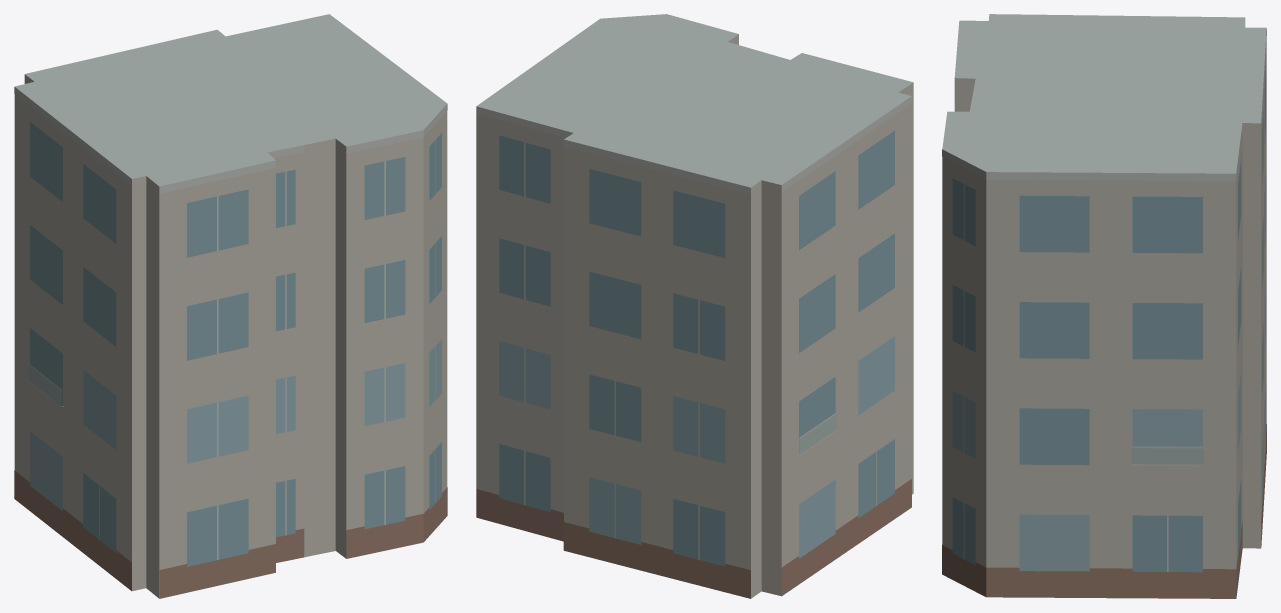
The model's file is survey-upis-32652744.glb.
3 renders of one model, left to right at view 1: azimuth 30°, elevation 25°; view 2: azimuth 150°, elevation 25°; view 3: azimuth 270°, elevation 25°, orthographic. The views are drawn at different scales.
Visible parts, largest first — view 1: survey-upis-32652744.tmp; view 2: survey-upis-32652744.tmp; view 3: survey-upis-32652744.tmp.
Part boxes in pixels (left/top/right/bottom): survey-upis-32652744.tmp: left=14, top=14, right=447, bottom=598; survey-upis-32652744.tmp: left=476, top=14, right=913, bottom=598; survey-upis-32652744.tmp: left=942, top=14, right=1266, bottom=598.
Bounding box in the file's own units: 11.22 × 13.9 × 9.62.
